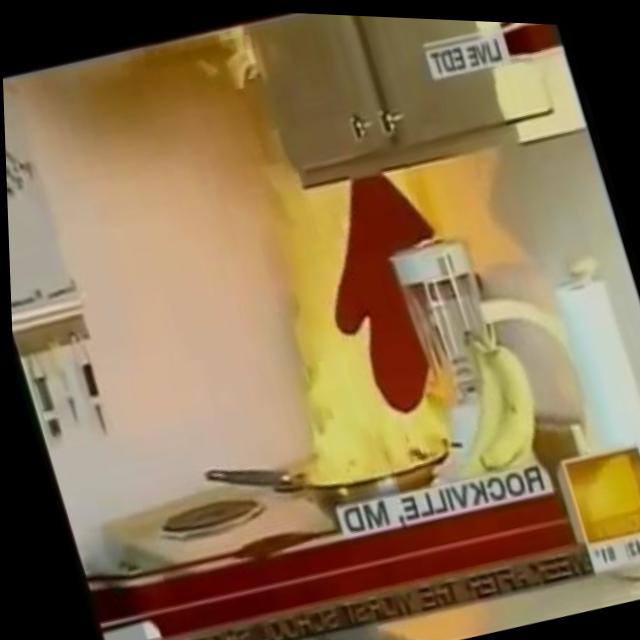fire: (209, 124, 494, 495)
